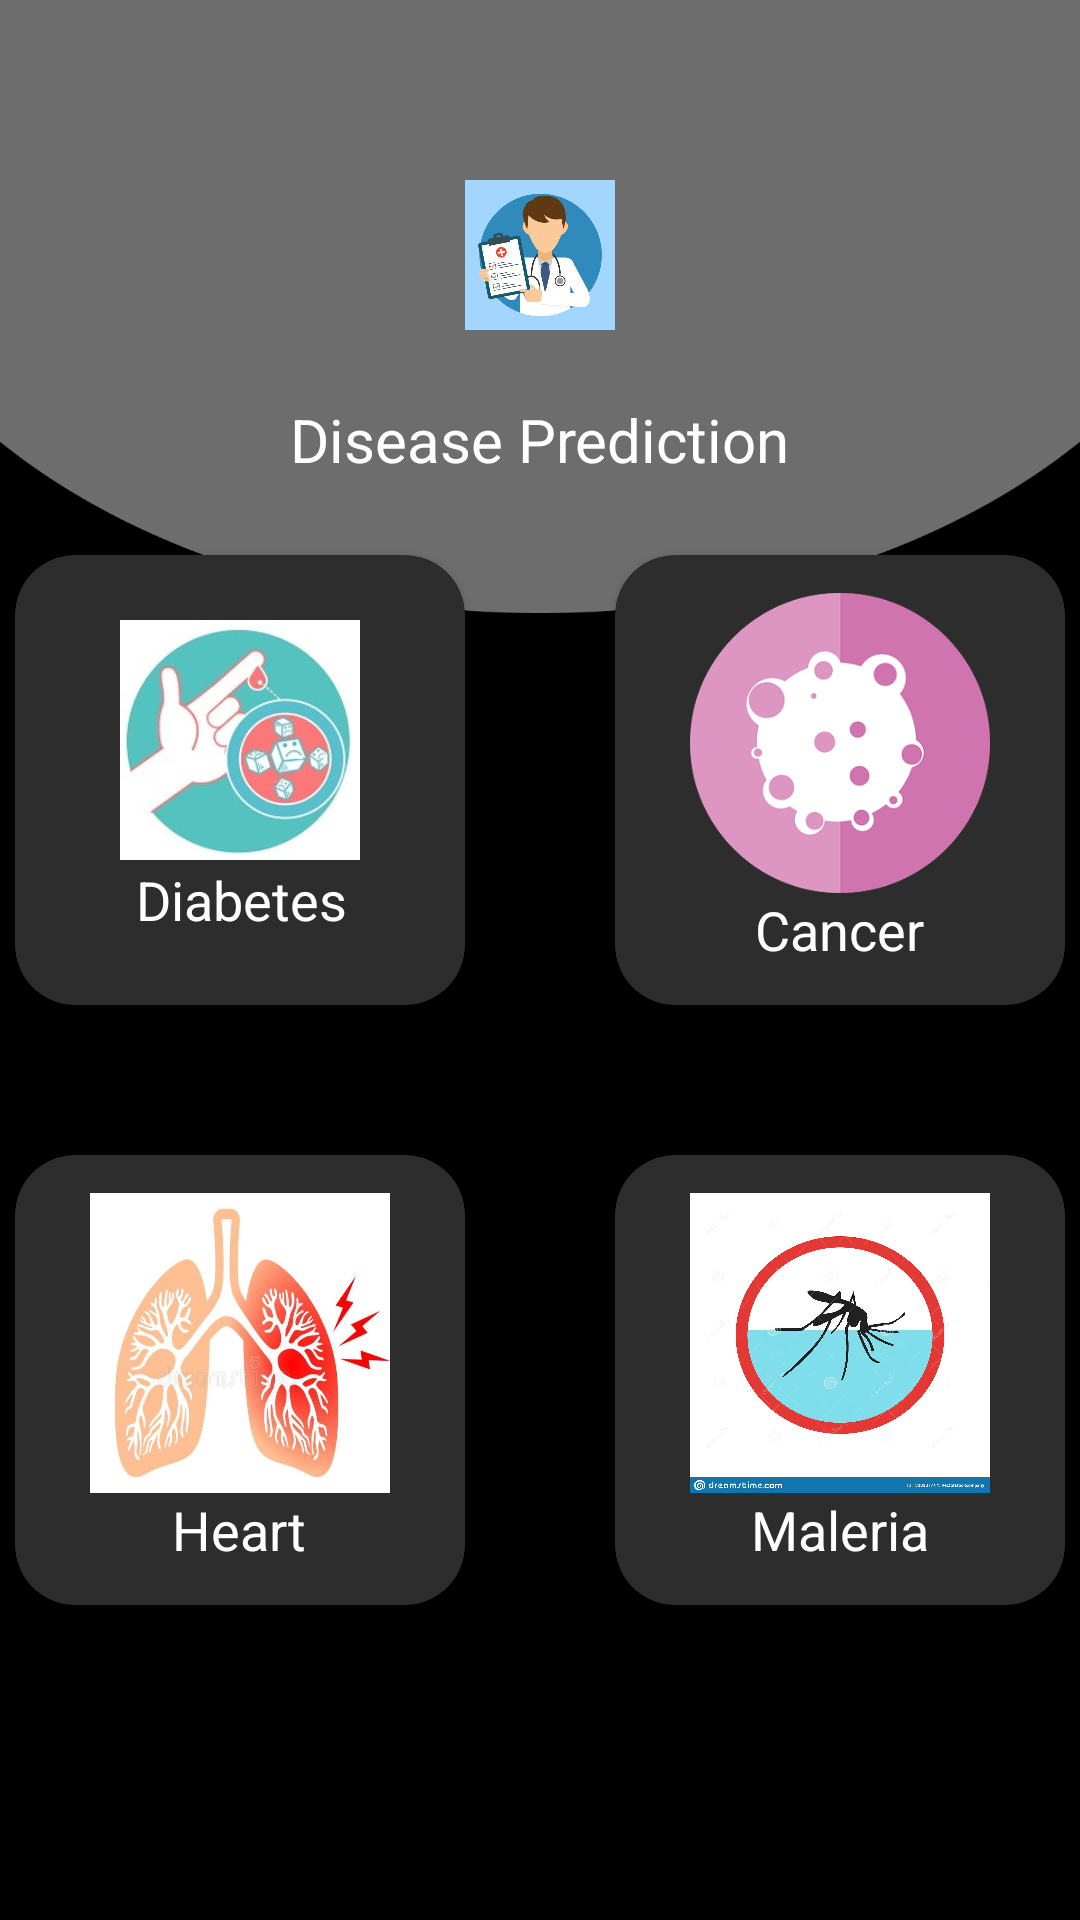

Screen size 1080×1920. Icon name, then its box in pixels as (x1, y1, x2, y2):
doc: (465, 180, 615, 330)
phneu: (90, 1193, 390, 1493)
